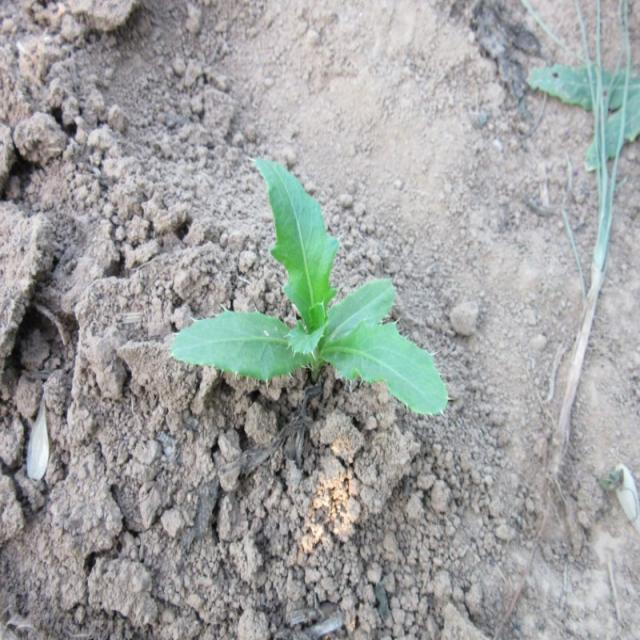cs: (172, 155, 451, 418)
